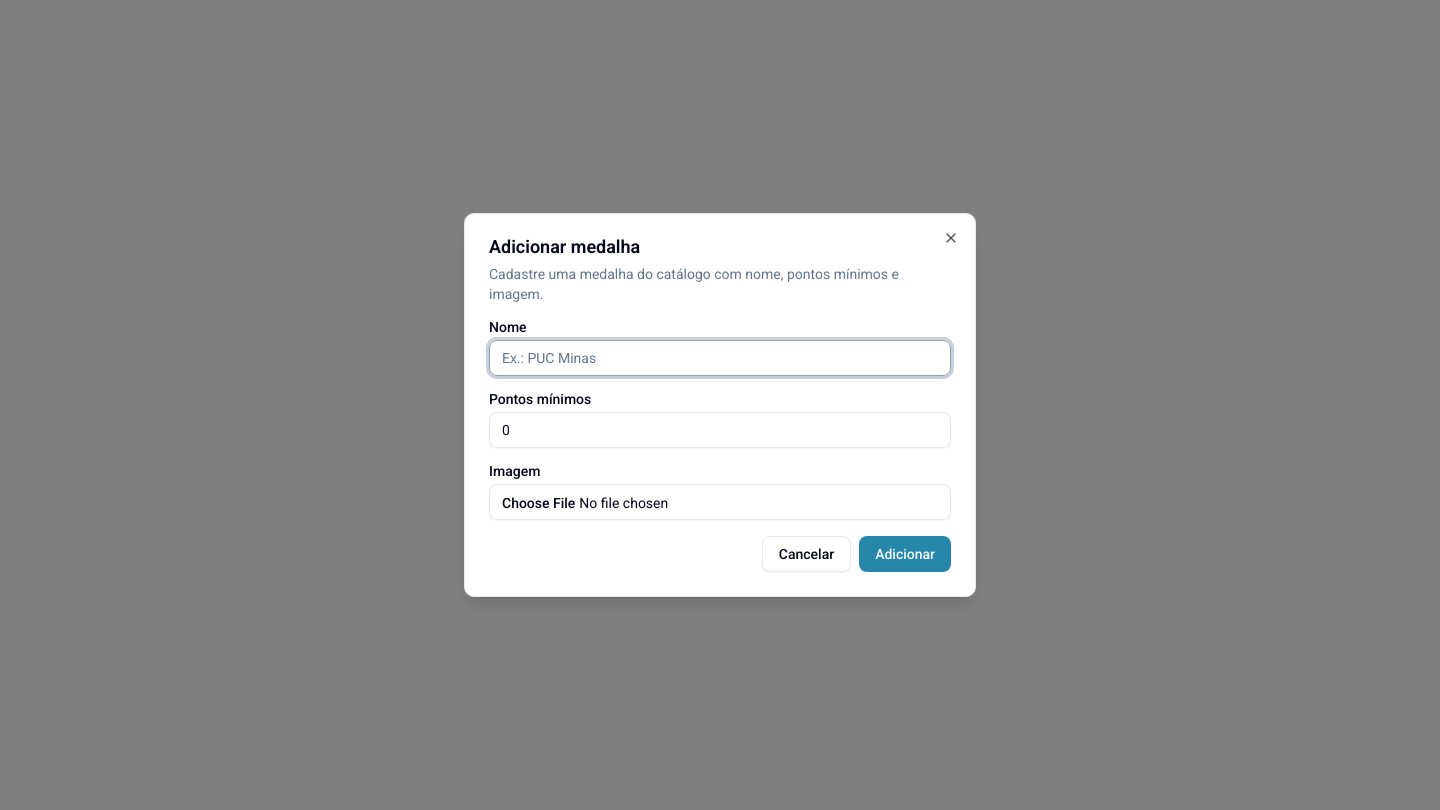
Test: AddMedalDialog › validates required name and image
The image size is (1440, 810).
Click the button "Adicionar": (905, 554) [859, 536, 951, 572]
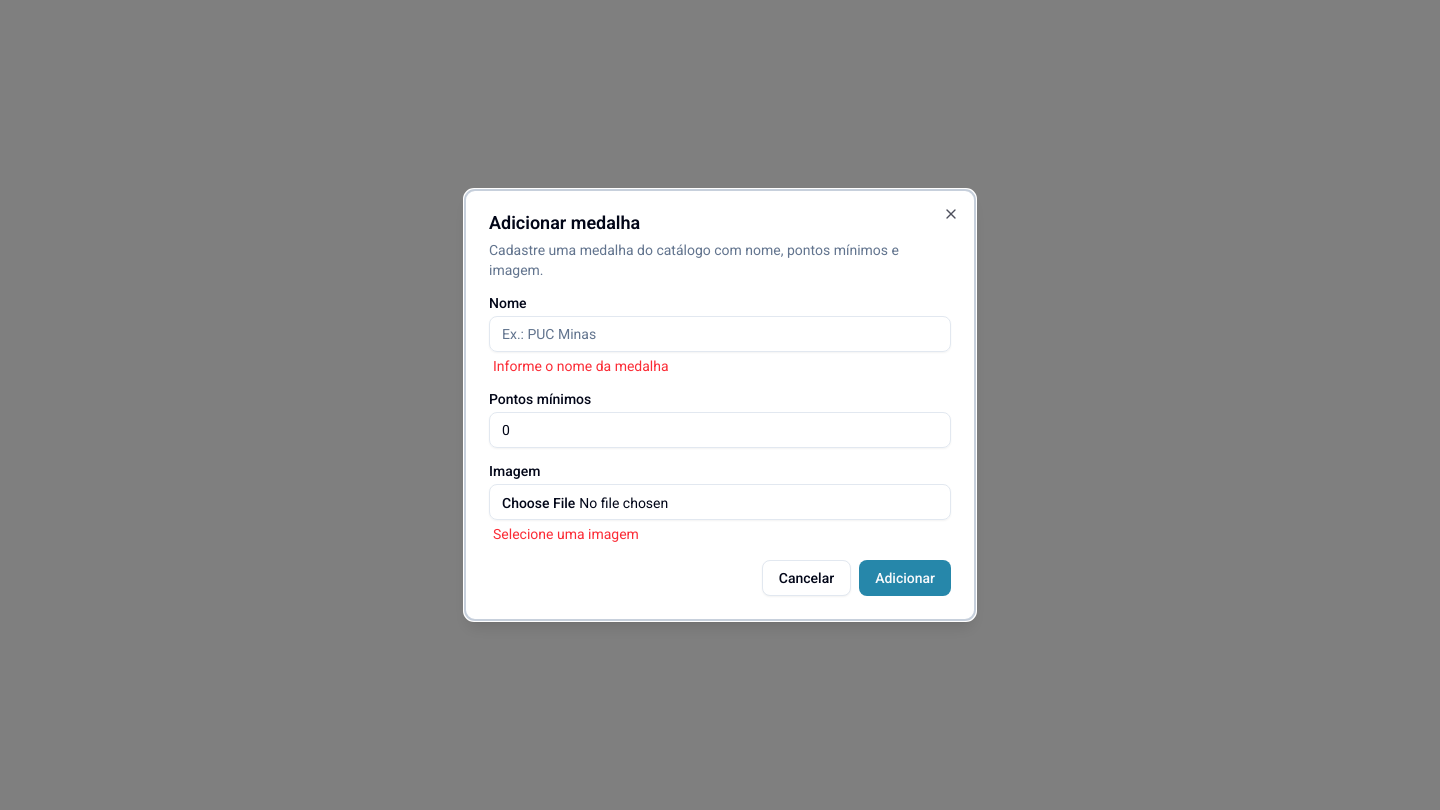
Check: the text "Informe o nome da medalha" is shown, box [493, 358, 669, 374]
Check: the text "Selecione uma imagem" is shown, box [493, 526, 639, 542]
